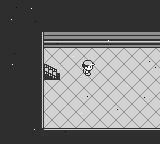main: (82, 60, 95, 76)
no-caminable: (1, 1, 160, 142), (44, 32, 159, 47)
puerta: (44, 64, 59, 80)
